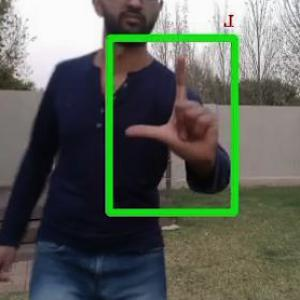land_hand: (116, 43, 222, 176)
